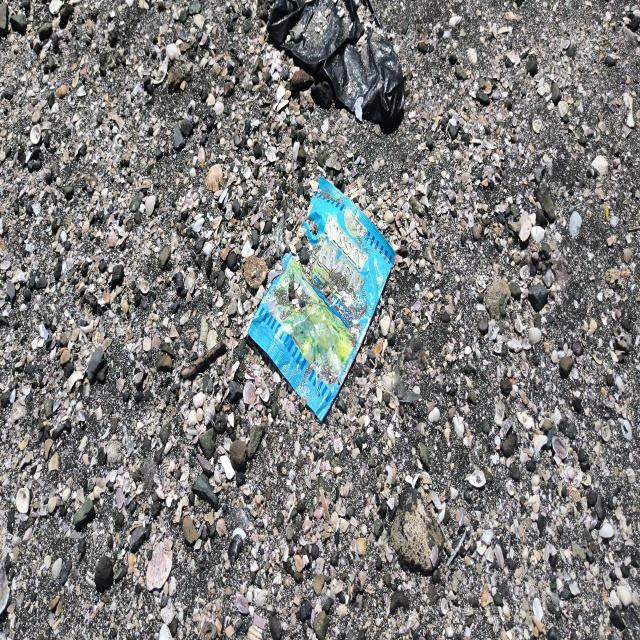plastic_waste: (250, 177, 396, 421)
